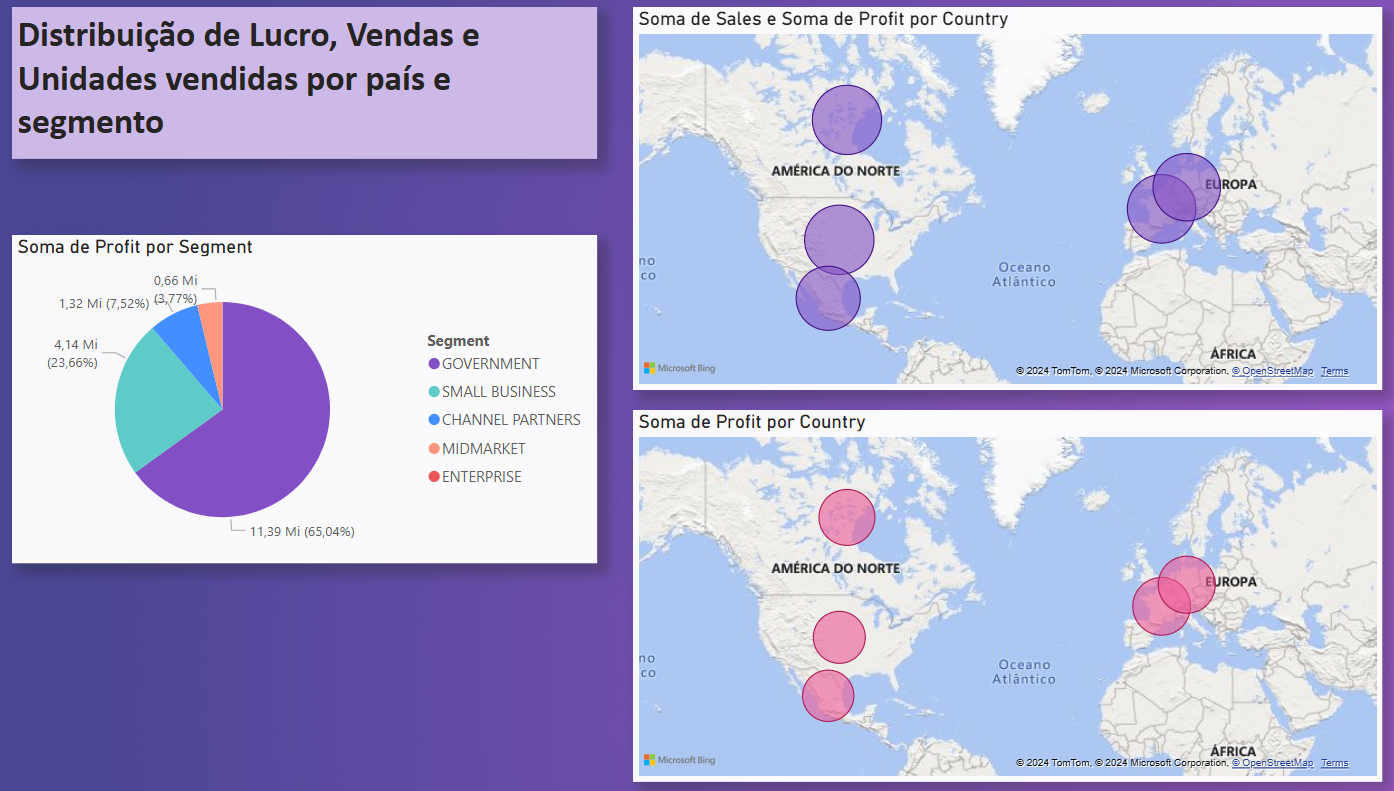

This screenshot's page, from the dashboard's own definition file:
{"tool":"powerbi","page":{"name":"Página 3","canvas":[1280,720],"ordinal":2},"visuals":[{"type":"pieChart","fields":{"Y":["Sum(financials.Profit)"],"Category":["financials.Segment"]},"box":[32.2,213.1,523.9,293.7],"z":0},{"type":"map","fields":{"Category":["financials.Country"],"Size":["Sum(financials.Profit)"]},"box":[588.4,369.9,670.7,333.1],"z":1000},{"type":"textbox","box":[32.2,22.4,523.9,136.1],"z":2000},{"type":"map","fields":{"Category":["financials.Country"],"Size":["Sum(financials. Sales)"]},"box":[588.4,9,670.7,343],"z":3000}]}

Visuals, with their boxes in screenshot pixels (x1, y1, x2, y2), scaled from the page's 1280x720 canvas onto the 1394x791 screenshot:
pieChart - Sum(financials.Profit) x financials.Segment: [left=35, top=234, right=606, bottom=557]
map - financials.Country x Sum(financials.Profit): [left=641, top=406, right=1371, bottom=772]
textbox: [left=35, top=25, right=606, bottom=174]
map - financials.Country x Sum(financials. Sales): [left=641, top=10, right=1371, bottom=387]
